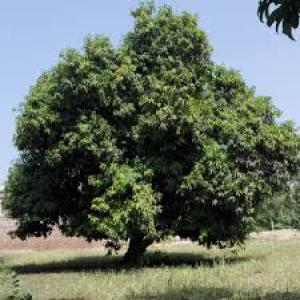Tree: (4, 4, 295, 257)
